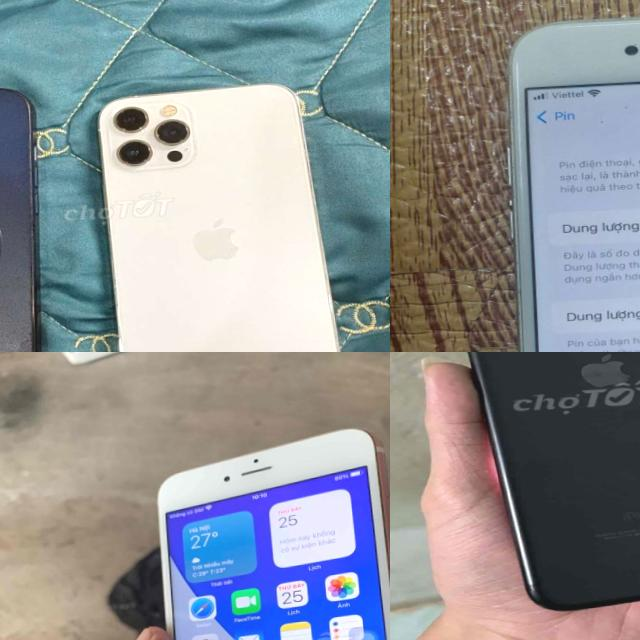gen_12_13: (91, 75, 354, 352)
gen_6: (144, 421, 390, 640)
gen_7_8: (499, 0, 640, 352), (457, 352, 640, 613)
scratch: (589, 90, 640, 125)
